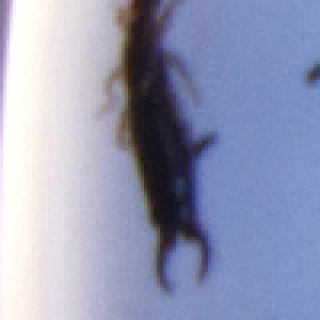earwig: (94, 0, 225, 299)
